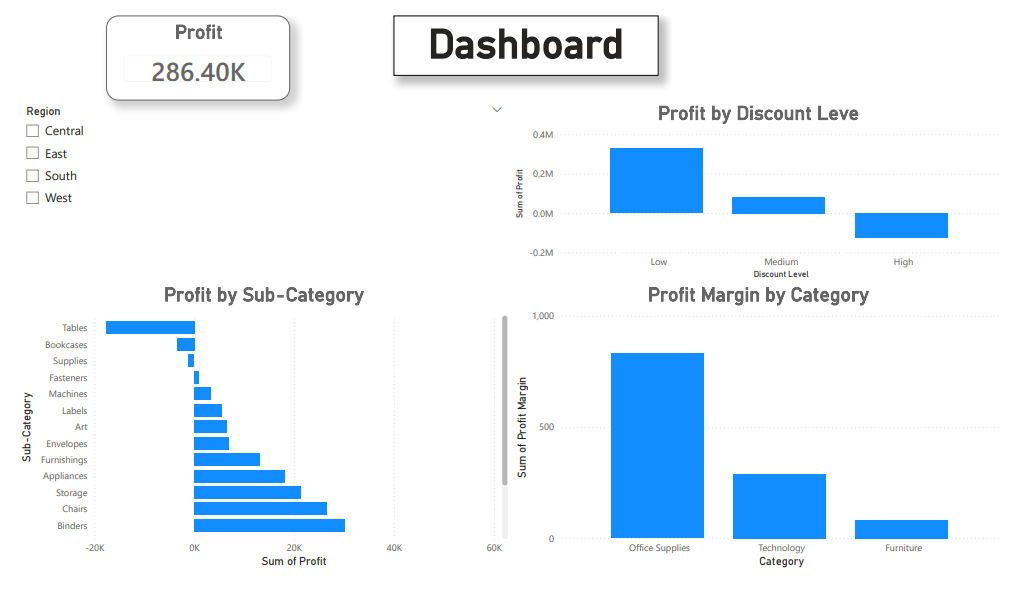

What the dashboard file says about the page in this screenshot:
{"tool":"powerbi","page":{"name":"Dashboard","canvas":[1280,720],"ordinal":0},"visuals":[{"type":"barChart","title":"Profit by Sub-Category","fields":{"Category":["superstore.Sub-Category"],"Y":["Sum(superstore.Profit)"]},"box":[0,345.9,640.9,374],"z":0},{"type":"textbox","box":[488.1,0,342.6,77.6],"z":1000},{"type":"columnChart","title":"Profit Margin by Category","fields":{"Category":["superstore.Category"],"Y":["Sum(superstore.Profit Margin)"]},"box":[640.9,345.9,639.1,374],"z":2000},{"type":"columnChart","title":"Profit by Discount Leve","fields":{"Category":["superstore.Discount Level"],"Y":["Sum(superstore.Profit)"]},"box":[640.9,110.6,639.1,235.3],"z":3000},{"type":"slicer","fields":{"Values":["superstore.Region"]},"box":[0,110.6,640.9,235.3],"z":4000},{"type":"cardVisual","title":"Profit","fields":{"Data":["Sum(superstore.Profit)"]},"box":[116.4,0,237.6,109.9],"z":5000}]}

Visuals, with their boxes in screenshot pixels (x1, y1, x2, y2), scaled from the page's 1280x720 canvas onto the 1022x590 screenshot:
"Profit by Sub-Category" barChart: select_region(0, 283, 512, 589)
textbox: select_region(390, 0, 663, 64)
"Profit Margin by Category" columnChart: select_region(512, 283, 1021, 589)
"Profit by Discount Leve" columnChart: select_region(512, 91, 1021, 283)
slicer - superstore.Region: select_region(0, 91, 512, 283)
"Profit" cardVisual: select_region(93, 0, 283, 90)
